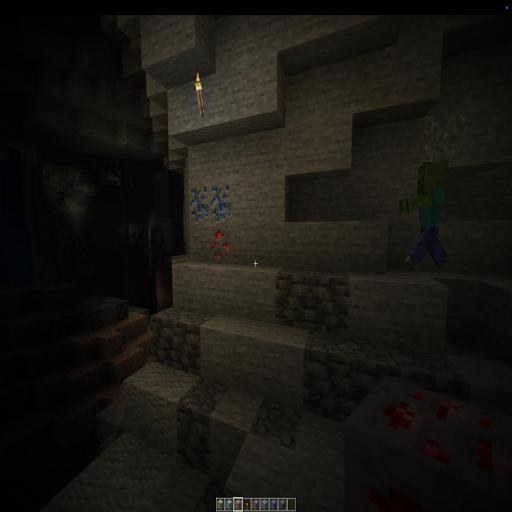lapis ore: (186, 186, 234, 224)
redstone ore: (208, 224, 237, 262)
